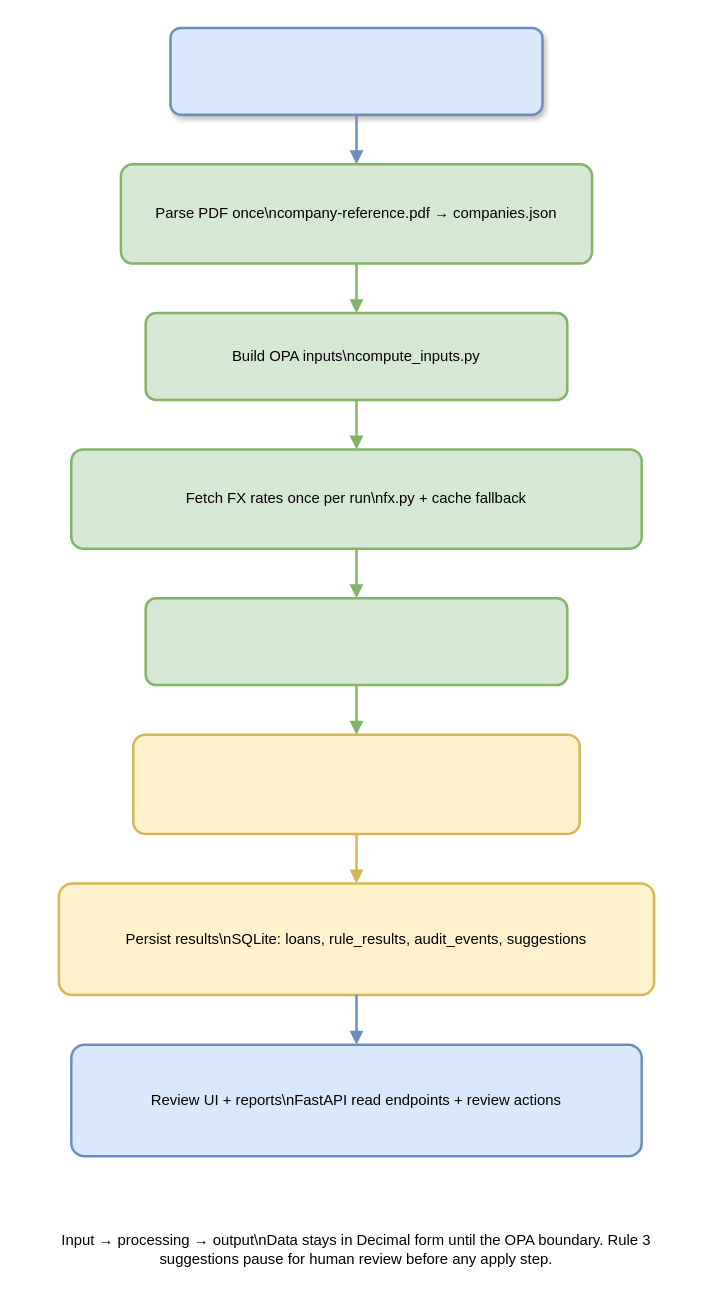
The diagram is 712 pixels wide and 1313 high, and some of its shapes have lost their labels. The centre of each missing label's shape, as x and y in pixels:
Batch 500 loans per request\nopa_client.py: (356,641)
loans.csv\n(100k rows): (357,72)
OPA / Rego\nRule 1, Rule 2, Rule 3: (355,784)
